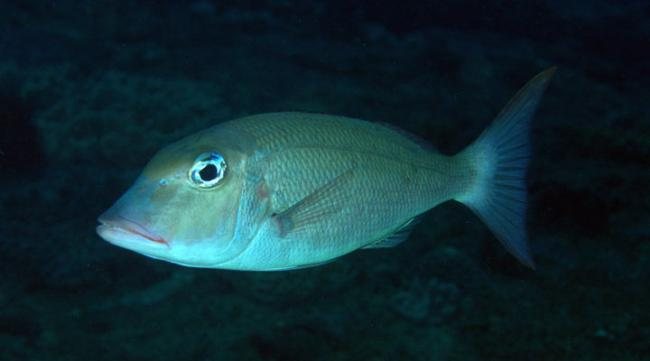fish: (96, 64, 558, 272)
